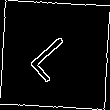L_NE: (26, 26, 84, 84)
